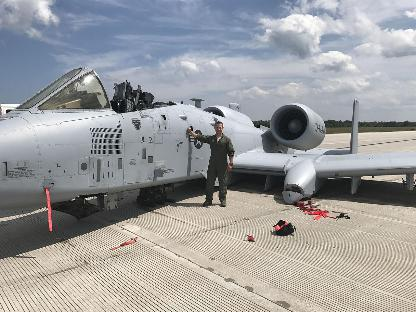A10: (0, 66, 416, 218)
